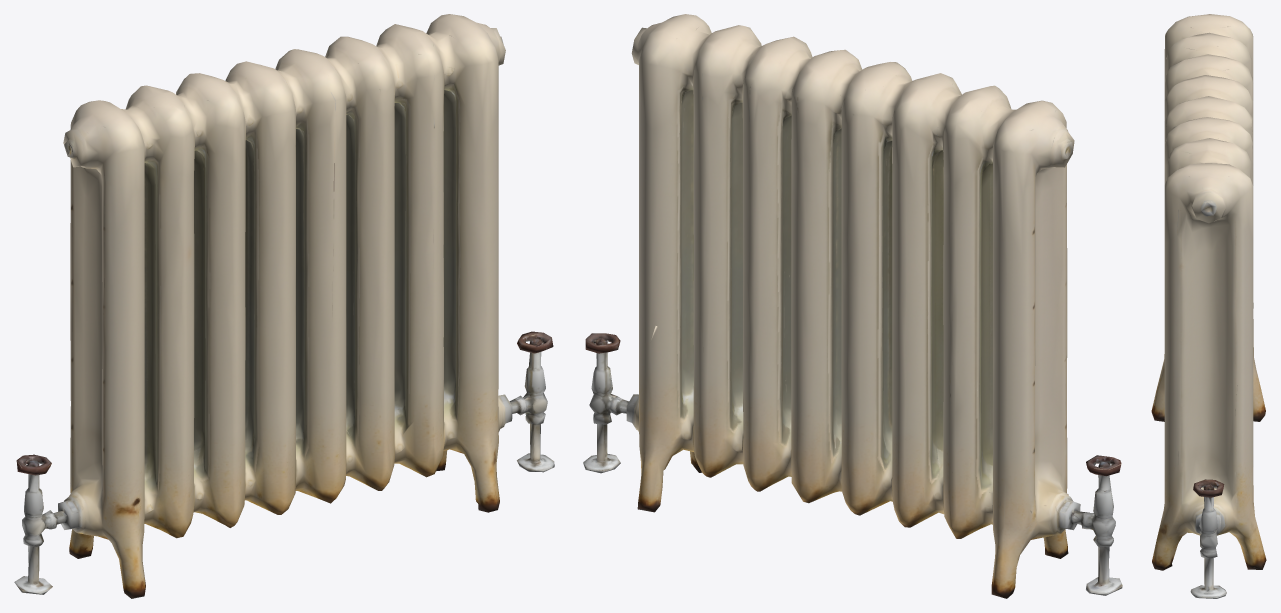
File: Meshy_AI_Radiator_on_a_green_b_0212085418_texture.fbx
3 renders of one model, left to right at view 1: azimuth 30°, elevation 25°; view 2: azimuth 150°, elevation 25°; view 3: azimuth 270°, elevation 25°, orthographic. The views are drawn at different scales.
Visible parts, largest first — view 1: Mesh1.0; view 2: Mesh1.0; view 3: Mesh1.0.
Part boxes in pixels (bbox=[...]): Mesh1.0: bbox=[14, 14, 554, 598]; Mesh1.0: bbox=[583, 14, 1122, 598]; Mesh1.0: bbox=[1151, 14, 1266, 598].
Size of the model in its own units: 200 by 169 by 43.57.
1 material, 1 textured.
